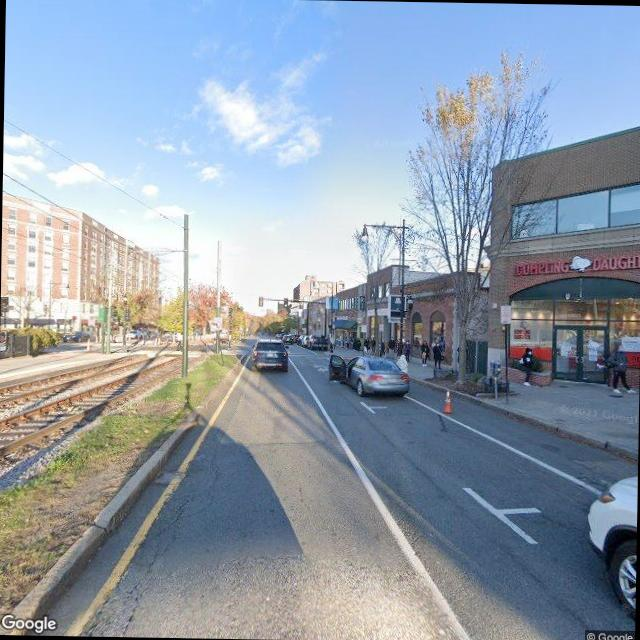pothole: (94, 416, 228, 626)
